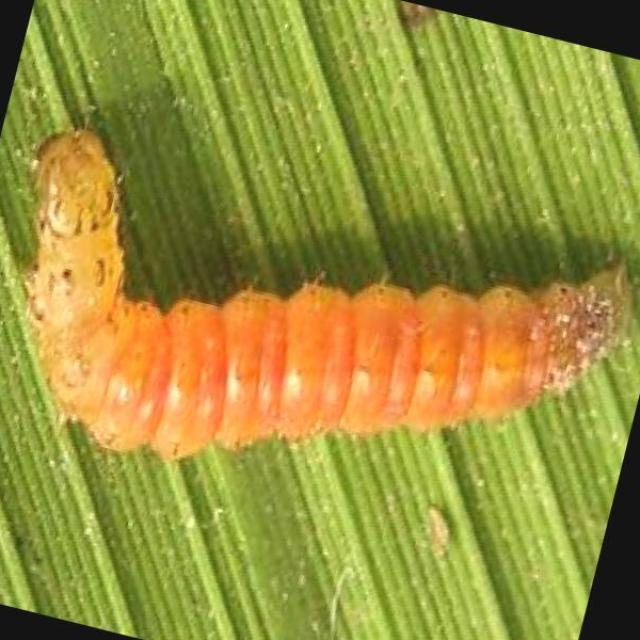leaf folder: (27, 132, 629, 460)
